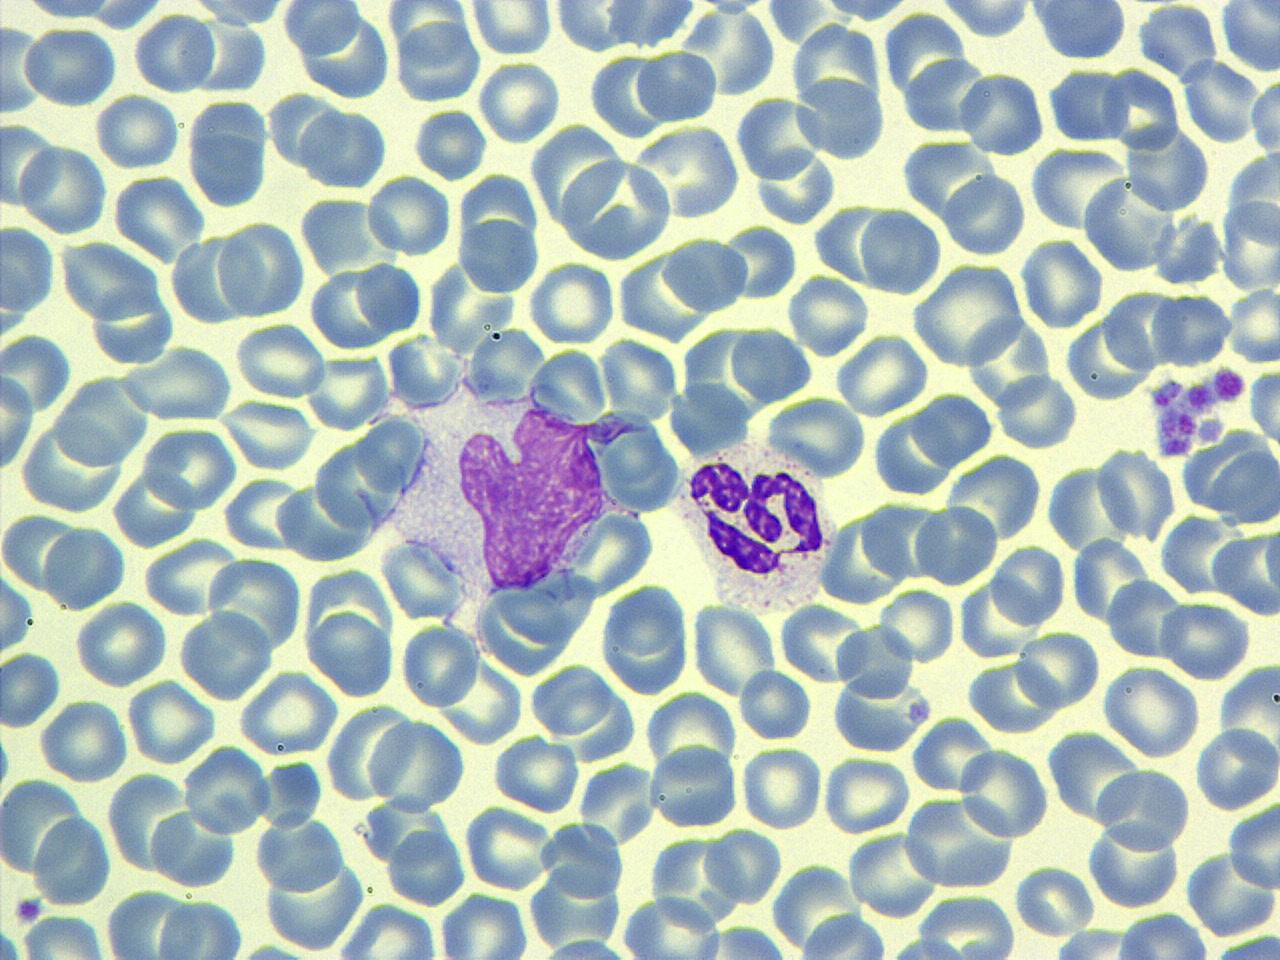Platelets: (13, 893, 45, 925)
RBC: (257, 822, 367, 953), (911, 260, 1027, 368), (557, 154, 674, 260), (597, 582, 693, 697), (904, 793, 1016, 891), (1101, 659, 1201, 760), (183, 95, 272, 209), (52, 369, 152, 470), (366, 714, 466, 814), (639, 123, 743, 218), (176, 608, 276, 704), (297, 4, 394, 101), (312, 434, 405, 534), (214, 218, 306, 318), (828, 668, 934, 754), (956, 744, 1050, 840), (1083, 818, 1181, 909), (790, 73, 889, 162), (238, 669, 338, 757), (1184, 846, 1278, 940), (18, 140, 110, 236), (646, 738, 742, 830), (142, 422, 240, 511), (690, 598, 778, 698), (113, 171, 207, 264), (1027, 142, 1125, 231), (615, 251, 710, 342), (766, 394, 866, 480), (19, 23, 118, 109), (58, 238, 159, 322), (73, 600, 168, 688), (966, 312, 1052, 408), (847, 828, 937, 920), (835, 331, 929, 418), (438, 652, 525, 747), (528, 257, 618, 348), (1019, 235, 1105, 330), (1121, 125, 1213, 212), (376, 538, 470, 624), (1094, 444, 1176, 541), (30, 812, 112, 910), (126, 678, 216, 766), (364, 171, 454, 260), (306, 607, 394, 698), (297, 105, 390, 191), (144, 537, 242, 617), (39, 698, 128, 786), (147, 802, 237, 888), (463, 804, 552, 890), (959, 68, 1045, 158), (1158, 598, 1252, 681), (858, 206, 944, 294), (738, 742, 824, 831), (476, 58, 564, 145), (184, 746, 266, 840), (912, 500, 999, 587), (862, 495, 947, 583), (662, 230, 748, 318), (394, 19, 482, 105), (822, 752, 912, 836), (1102, 64, 1182, 156), (234, 320, 327, 400), (1070, 532, 1150, 626), (41, 523, 127, 610), (777, 600, 865, 685), (310, 263, 394, 352), (944, 168, 1027, 258), (398, 618, 481, 708), (221, 395, 315, 473), (1014, 628, 1102, 712), (786, 271, 870, 358), (600, 332, 680, 422), (1180, 55, 1260, 146), (1195, 726, 1279, 812), (754, 141, 838, 226), (457, 214, 542, 296), (305, 350, 392, 432), (916, 890, 1017, 960), (134, 10, 216, 96), (837, 616, 916, 704), (93, 92, 182, 169), (384, 821, 466, 906), (1221, 178, 1279, 296), (492, 734, 580, 813), (528, 344, 610, 428), (222, 473, 307, 553), (1048, 64, 1130, 146), (878, 582, 958, 666), (620, 894, 726, 958), (991, 541, 1067, 627), (1212, 520, 1280, 618), (383, 333, 466, 412), (994, 371, 1077, 450), (730, 323, 810, 403), (703, 824, 783, 906), (1014, 861, 1097, 939), (635, 46, 718, 124), (436, 892, 531, 960), (1027, 0, 1129, 63), (1152, 288, 1228, 370), (334, 902, 440, 958), (1, 218, 56, 325), (152, 898, 248, 960), (412, 104, 490, 179), (738, 666, 813, 742), (356, 258, 426, 337), (1226, 798, 1280, 892), (466, 1, 554, 58), (1112, 908, 1210, 958), (1, 648, 61, 729), (280, 0, 362, 56), (796, 910, 889, 959), (1227, 282, 1279, 368), (1217, 0, 1279, 72), (17, 910, 109, 958), (0, 22, 47, 114), (937, 0, 1036, 40), (0, 368, 36, 472), (0, 563, 34, 657), (185, 0, 291, 30), (1249, 66, 1279, 167), (1248, 364, 1280, 454)
WBC: (678, 441, 838, 614), (251, 808, 369, 952), (789, 54, 894, 168), (185, 93, 273, 210), (292, 3, 394, 100), (177, 608, 277, 704), (542, 0, 702, 55), (20, 24, 125, 109), (830, 670, 936, 753), (377, 812, 469, 908), (298, 106, 387, 193), (440, 889, 534, 958), (1029, 1, 1129, 63), (153, 897, 249, 959), (1112, 910, 1212, 958)
